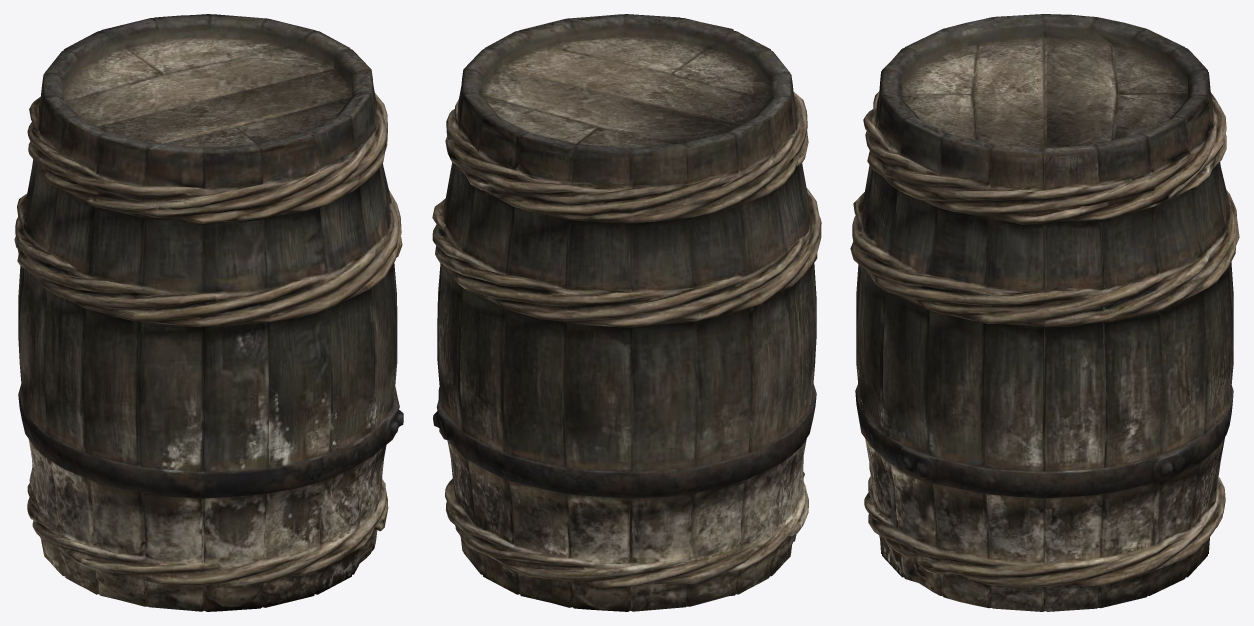
Rendered from kit_barrel_hero.glb.
The picture shows the model from 3 angles, left to right: view 1: azimuth 30°, elevation 25°; view 2: azimuth 150°, elevation 25°; view 3: azimuth 270°, elevation 25°; orthographic projection.
Visible parts, largest first — view 1: kit_barrel_hero; view 2: kit_barrel_hero; view 3: kit_barrel_hero.
Boxes of the visible parts, <box> form: kit_barrel_hero: <box>14,14,403,611</box>; kit_barrel_hero: <box>432,14,821,611</box>; kit_barrel_hero: <box>850,14,1239,611</box>.
Size of the model in its own units: 0.6922 by 0.9 by 0.6922.
1 material, 1 textured.
